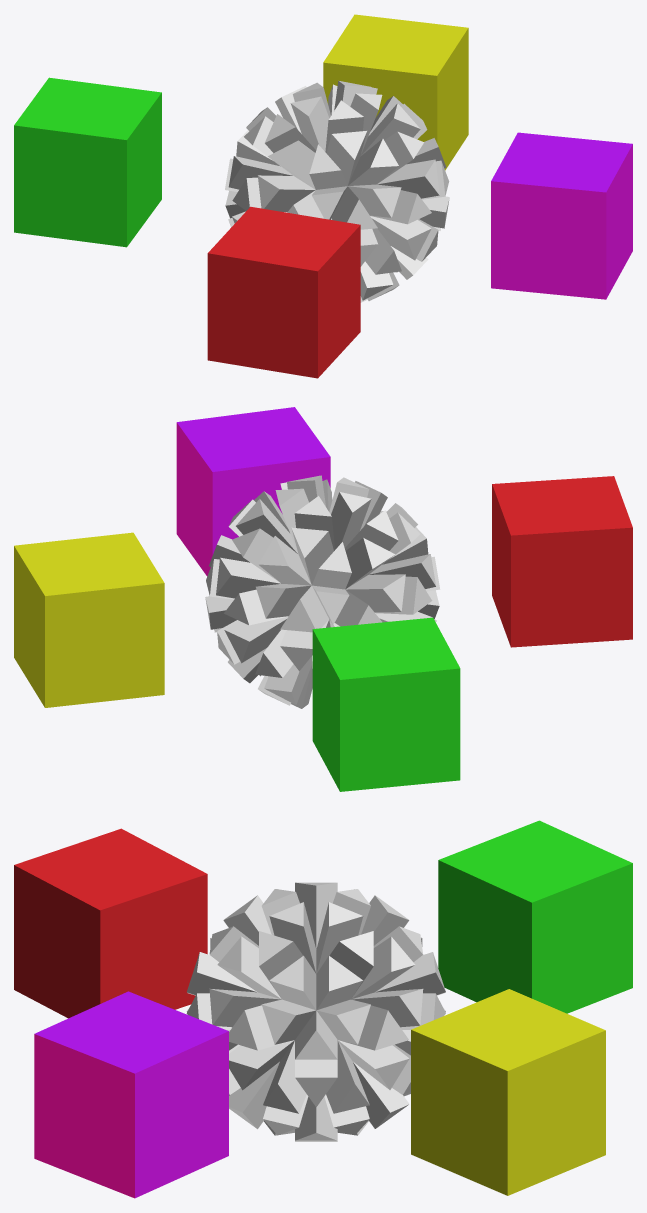
File: ico2.dae
3 renders of one model, top to bottom at view 1: azimuth 30°, elevation 25°; view 2: azimuth 150°, elevation 25°; view 3: azimuth 270°, elevation 25°, orthographic. The views are drawn at different scales.
Visible parts, largest first — view 1: Icosphere, Cube, Cube.001, Cube.003, Cube.002; view 2: Icosphere, Cube.002, Cube.001, Cube, Cube.003; view 3: Icosphere, Cube.003, Cube.002, Cube.001, Cube.
Boxes of the visible parts, box(x1,y1,x2,y2) form: Icosphere: box(225, 80, 449, 302); Cube: box(207, 206, 360, 378); Cube.001: box(14, 77, 161, 247); Cube.003: box(491, 132, 632, 299); Cube.002: box(323, 14, 468, 170); Icosphere: box(205, 475, 440, 708); Cube.002: box(14, 532, 164, 707); Cube.001: box(312, 617, 460, 791); Cube: box(492, 476, 632, 647); Cube.003: box(176, 407, 330, 576); Icosphere: box(186, 882, 445, 1141); Cube.003: box(34, 991, 228, 1198); Cube.002: box(411, 989, 605, 1195); Cube.001: box(438, 820, 632, 1013); Cube: box(14, 828, 207, 1018).
Bounding box in the file's own units: 8.7 × 8.99 × 3.77.
